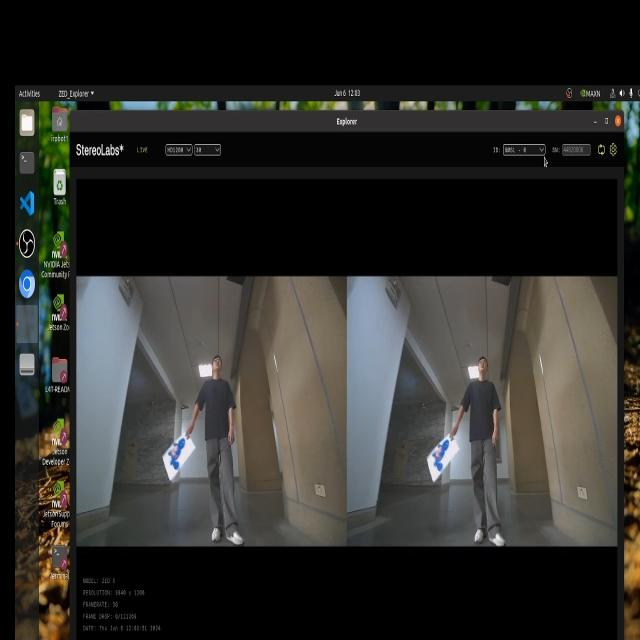blue: (430, 430, 452, 470), (169, 437, 192, 471)
